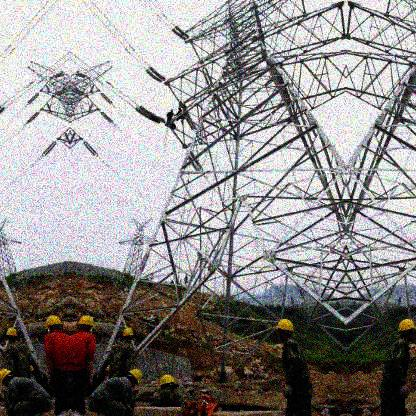helmet: (398, 319, 415, 344), (277, 319, 295, 341), (125, 369, 142, 388), (158, 375, 176, 392), (77, 315, 94, 332), (46, 316, 62, 333), (1, 369, 14, 388), (6, 327, 19, 344), (122, 328, 134, 343), (105, 365, 111, 376)
